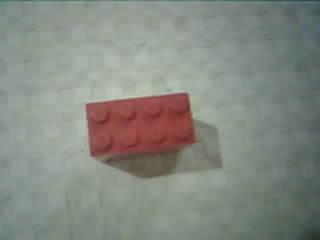lego: (83, 91, 196, 159)
